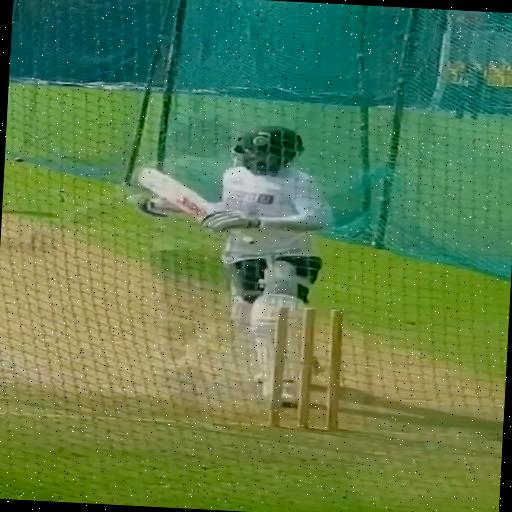Cricket bat: (137, 168, 208, 221)
